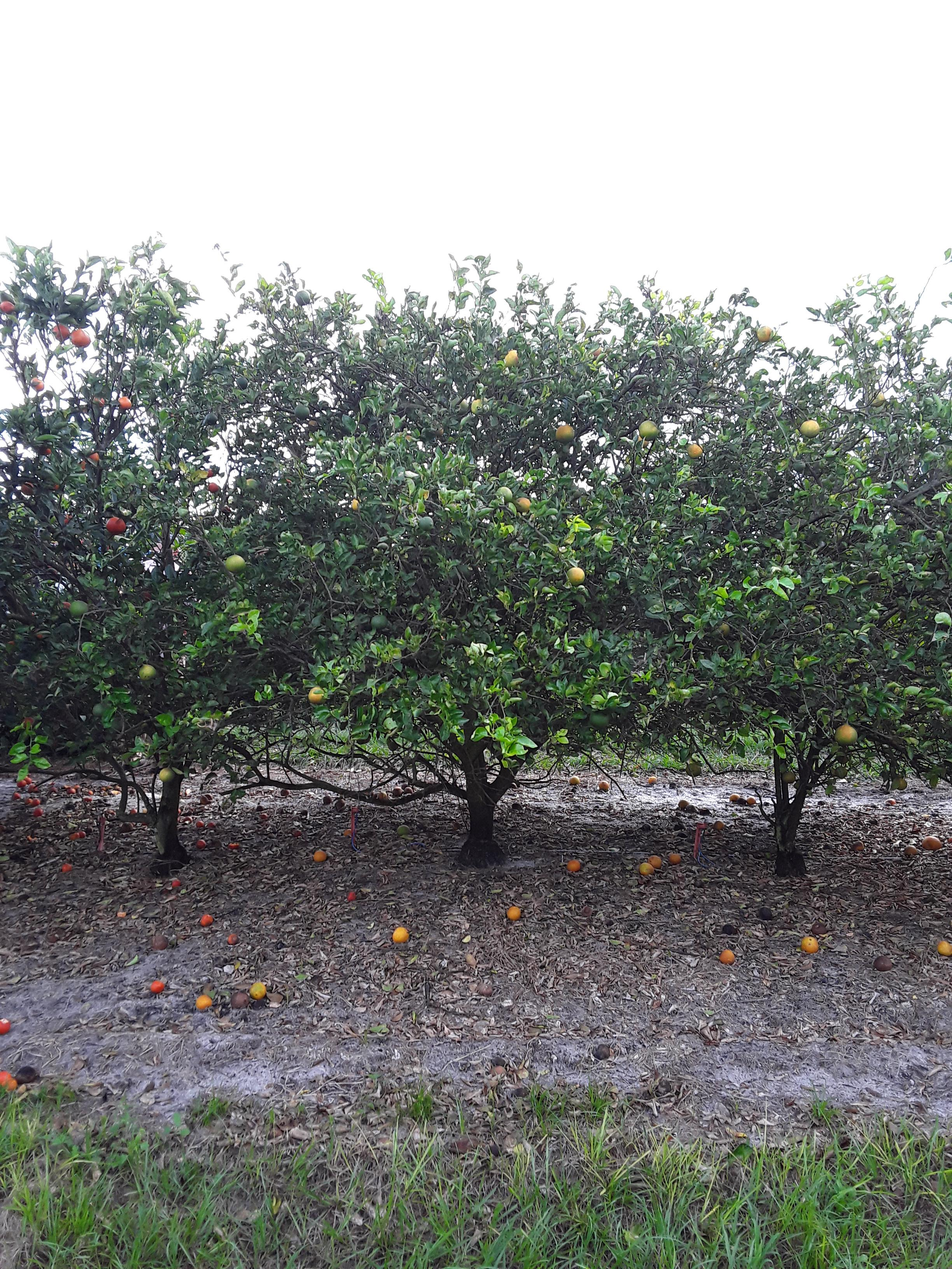fruit_on_ground: (835, 723, 857, 746), (753, 320, 773, 345), (589, 710, 612, 731), (710, 619, 732, 640), (138, 662, 159, 683), (639, 417, 658, 440), (68, 600, 92, 618), (800, 419, 821, 439), (556, 422, 574, 445), (226, 551, 245, 572), (567, 566, 586, 587), (307, 687, 328, 706), (111, 513, 129, 535), (293, 290, 313, 308), (686, 441, 703, 462), (74, 330, 91, 351), (293, 403, 313, 420), (53, 321, 69, 342), (590, 346, 611, 362), (504, 348, 520, 369), (371, 614, 390, 631), (115, 397, 133, 414), (515, 496, 532, 514), (468, 400, 484, 419), (90, 703, 111, 717), (29, 376, 46, 393), (137, 587, 153, 605), (494, 486, 513, 501), (60, 512, 77, 528), (159, 767, 176, 783), (893, 776, 910, 791), (686, 761, 701, 777), (872, 391, 886, 408), (419, 515, 434, 530), (0, 300, 15, 315), (236, 376, 251, 391), (51, 477, 65, 493), (90, 395, 107, 408), (86, 449, 101, 463), (74, 459, 88, 474), (21, 482, 36, 496), (204, 412, 220, 425), (780, 771, 796, 784), (349, 496, 362, 511), (793, 459, 807, 472), (243, 479, 258, 491), (833, 766, 848, 778), (636, 434, 648, 447), (58, 599, 72, 610), (23, 717, 35, 729), (38, 446, 52, 456), (208, 481, 219, 493), (35, 631, 46, 642), (203, 465, 213, 477), (7, 641, 16, 647)
fruit_on_tree: (229, 989, 250, 1012), (920, 834, 945, 852), (16, 1066, 38, 1085), (639, 863, 658, 883), (151, 933, 170, 953), (248, 981, 267, 1001), (389, 921, 407, 942), (872, 955, 895, 971), (801, 935, 819, 954), (592, 1044, 611, 1062), (755, 904, 775, 921), (394, 928, 411, 948), (719, 948, 737, 966), (489, 1064, 509, 1080), (3, 1075, 19, 1095), (507, 903, 523, 922), (196, 993, 212, 1012), (935, 937, 949, 956), (0, 1018, 14, 1037), (721, 922, 738, 937), (199, 912, 214, 928), (149, 980, 166, 994), (292, 825, 306, 841), (646, 855, 663, 868), (490, 1055, 507, 1068), (0, 1071, 13, 1088), (488, 1142, 501, 1159), (567, 858, 580, 874), (345, 888, 358, 904), (811, 923, 828, 935), (512, 1087, 530, 1098), (668, 853, 684, 865), (395, 825, 412, 836), (849, 840, 866, 851), (115, 907, 128, 921), (903, 845, 921, 855), (313, 849, 325, 864), (227, 931, 239, 946), (478, 984, 493, 996), (198, 794, 215, 804), (120, 821, 135, 832), (61, 861, 72, 876), (226, 840, 237, 854), (599, 780, 612, 791), (583, 904, 593, 918), (196, 839, 208, 850), (698, 807, 712, 816), (22, 774, 33, 785), (30, 797, 42, 807), (334, 799, 346, 809), (678, 799, 690, 809), (569, 776, 582, 785), (712, 821, 725, 830), (171, 879, 182, 889), (403, 785, 415, 794), (9, 792, 21, 801), (69, 833, 82, 841), (323, 795, 333, 805), (207, 820, 217, 830), (28, 784, 39, 793), (376, 791, 387, 800), (729, 793, 740, 802), (77, 830, 88, 839), (65, 787, 77, 795), (32, 808, 44, 816), (109, 789, 122, 796), (746, 795, 756, 804), (686, 804, 696, 813), (885, 798, 896, 806), (183, 816, 194, 824), (393, 787, 402, 796), (281, 788, 290, 797), (344, 828, 353, 837), (648, 777, 658, 785), (195, 820, 205, 828), (48, 787, 59, 794), (401, 781, 409, 790), (738, 797, 746, 806), (24, 798, 33, 806), (255, 805, 267, 811), (17, 780, 27, 787), (260, 813, 271, 819), (641, 823, 650, 830), (868, 819, 878, 825), (301, 809, 309, 816), (816, 801, 827, 806), (73, 784, 82, 790), (99, 786, 108, 792), (87, 789, 95, 795), (101, 792, 110, 796)
